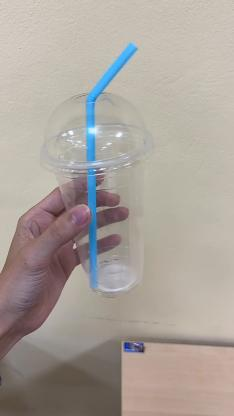Plastic Cup: (40, 92, 158, 296)
